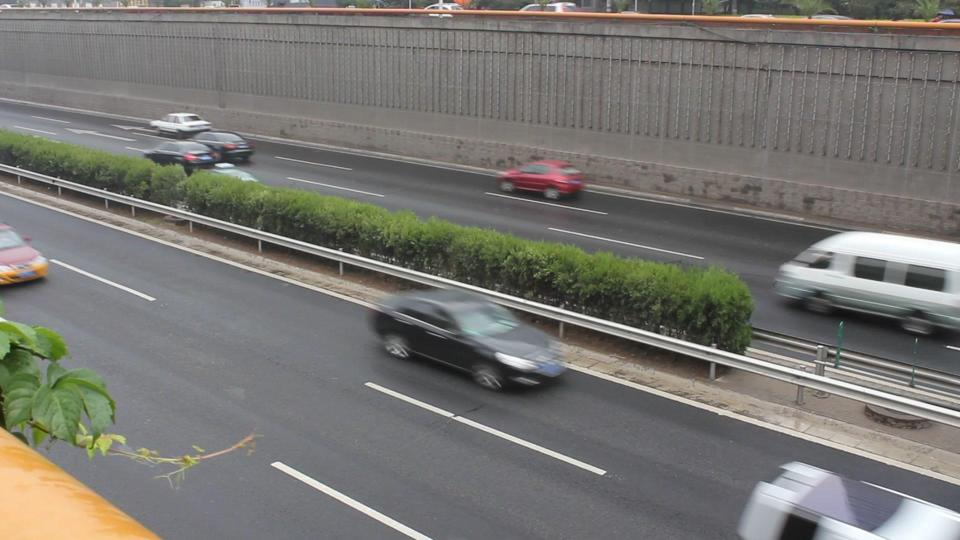car: (365, 288, 569, 393), (771, 231, 958, 338), (496, 159, 590, 200), (0, 223, 50, 287), (142, 140, 223, 168), (192, 131, 257, 164), (150, 112, 213, 138), (519, 1, 579, 12), (424, 0, 463, 11)
